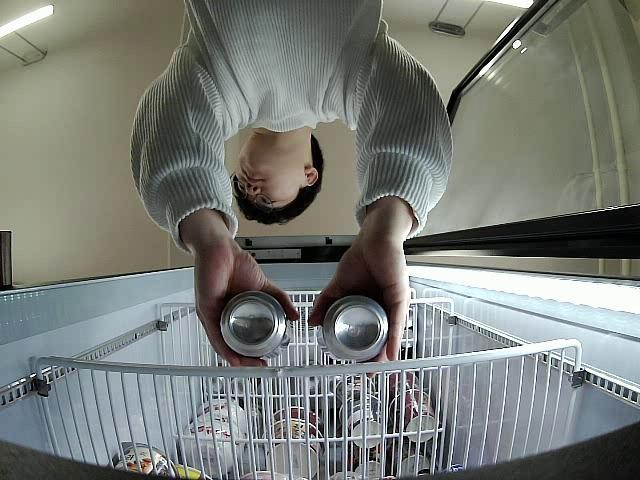14_welchsGrape: (218, 288, 292, 362), (316, 295, 388, 361)
